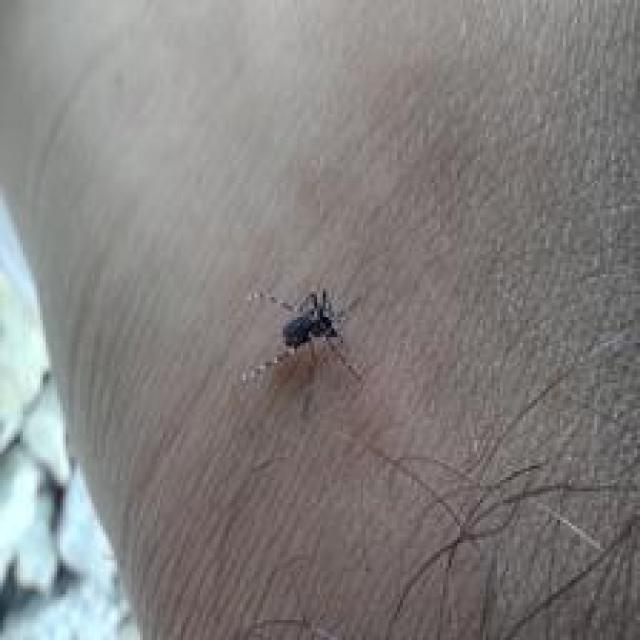Aedes albopictus: (239, 284, 364, 390)
